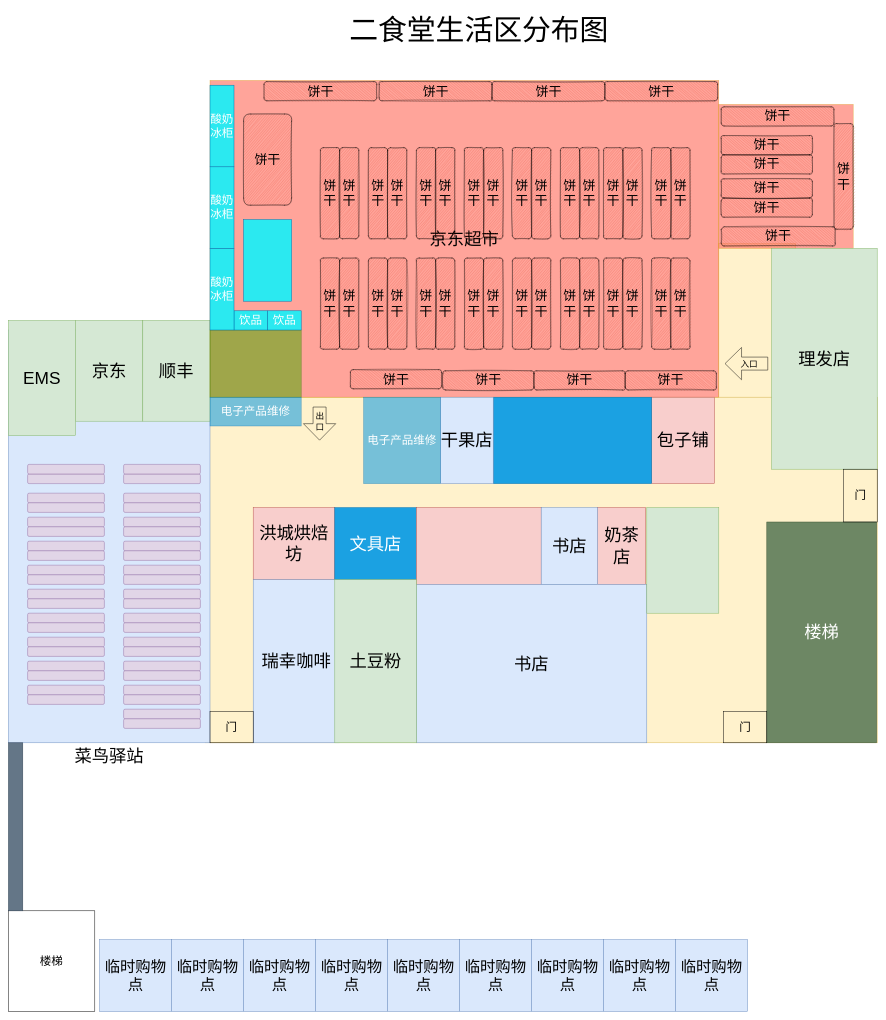
Image size: 886x1020. Some labels were removed from this diagram. The centre of each missing label's shape, as x and y in pixels:
"图文店" belongs at [478,545].
"新世纪百货" belongs at [572,440].
"水果店" belongs at [682,560].
"超市库房" belongs at [255,363].
"雪糕 冰激凌" belongs at [267,260].
